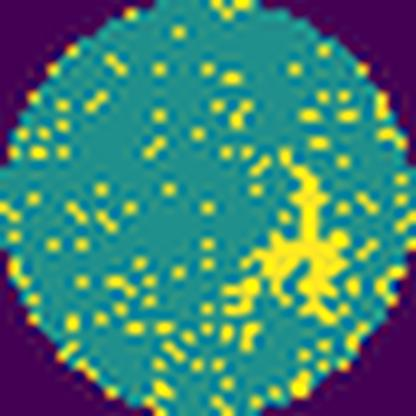Loc: (238, 148, 353, 323)
